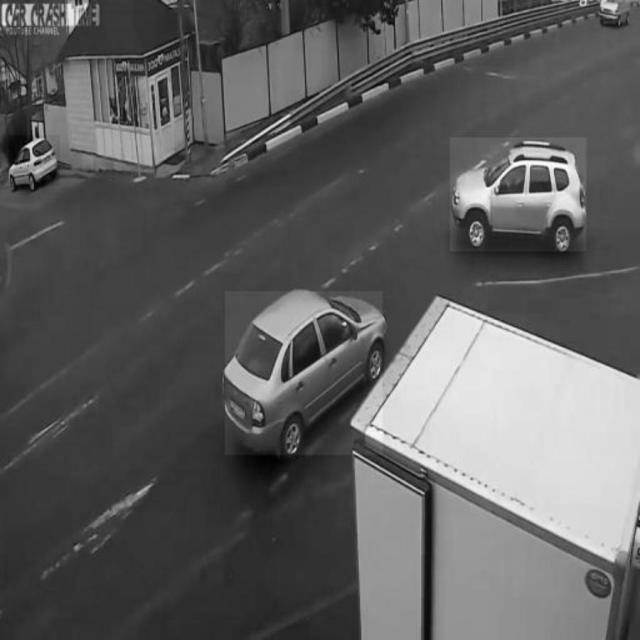vehicle: (224, 292, 382, 456), (451, 138, 587, 251), (9, 135, 60, 186)
